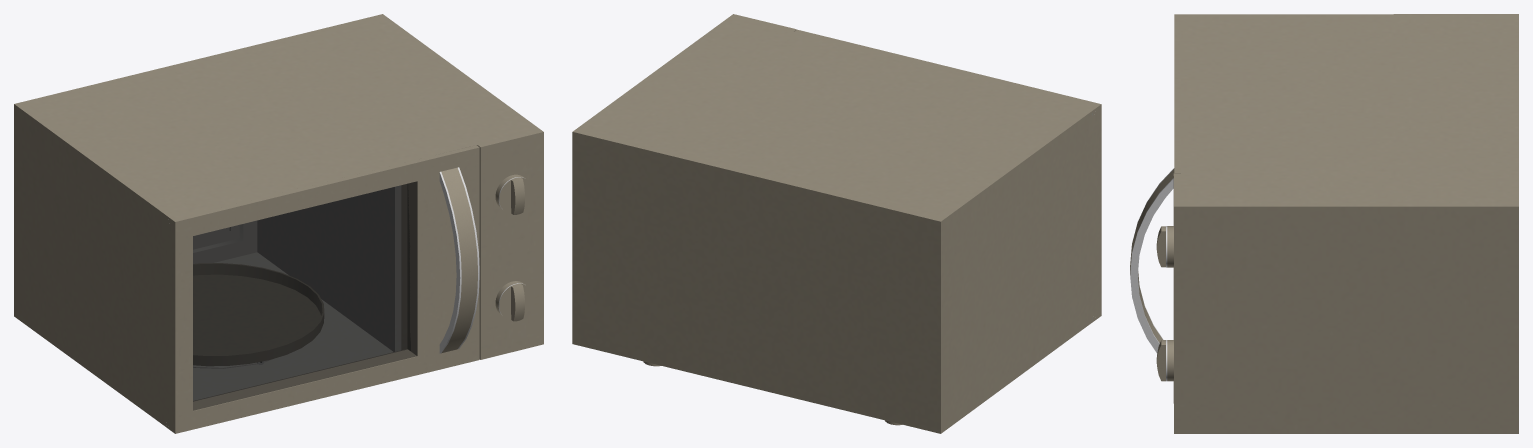
File: MicrowaveOven05.fbx
3 views of the same model, side by side, from view 1: azimuth 30°, elevation 25°; view 2: azimuth 150°, elevation 25°; view 3: azimuth 270°, elevation 25° (orthographic). The views are drawn at different scales.
Parts seen in each view (by area): view 1: MicrowaveOven05, MicrowaveOven05_Glass, MicrowaveOven05_Door, MicrowaveOven05_Plate, MicrowaveOven05_Knob02, MicrowaveOven05_Knob01; view 2: MicrowaveOven05, MicrowaveOven05_Door; view 3: MicrowaveOven05, MicrowaveOven05_Door, MicrowaveOven05_Knob02, MicrowaveOven05_Knob01.
Part boxes in pixels (x1=…): MicrowaveOven05: x1=14, y1=14, x2=543, y2=431; MicrowaveOven05_Glass: x1=193, y1=181, x2=417, y2=410; MicrowaveOven05_Door: x1=172, y1=145, x2=479, y2=433; MicrowaveOven05_Plate: x1=193, y1=263, x2=323, y2=365; MicrowaveOven05_Knob02: x1=495, y1=281, x2=532, y2=321; MicrowaveOven05_Knob01: x1=495, y1=174, x2=532, y2=214; MicrowaveOven05: x1=572, y1=14, x2=1098, y2=433; MicrowaveOven05_Door: x1=794, y1=29, x2=1101, y2=319; MicrowaveOven05: x1=1173, y1=14, x2=1518, y2=433; MicrowaveOven05_Door: x1=1130, y1=14, x2=1181, y2=353; MicrowaveOven05_Knob02: x1=1156, y1=340, x2=1173, y2=381; MicrowaveOven05_Knob01: x1=1156, y1=226, x2=1173, y2=267.
Bounding box in the file's own units: 52.49 × 31.12 × 44.77.
